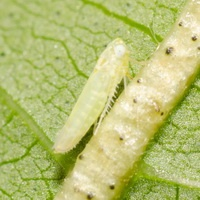insect: (54, 0, 199, 199), (53, 38, 128, 152)
